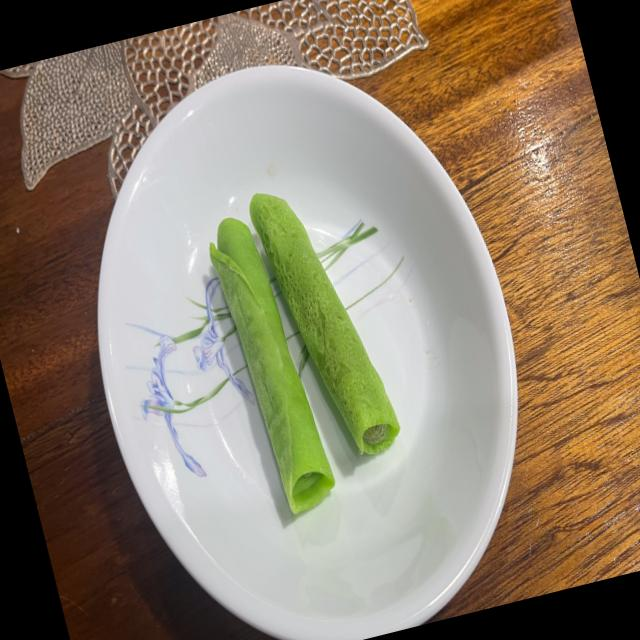Kuih-Ketayap: (249, 193, 400, 454), (209, 217, 335, 514)
